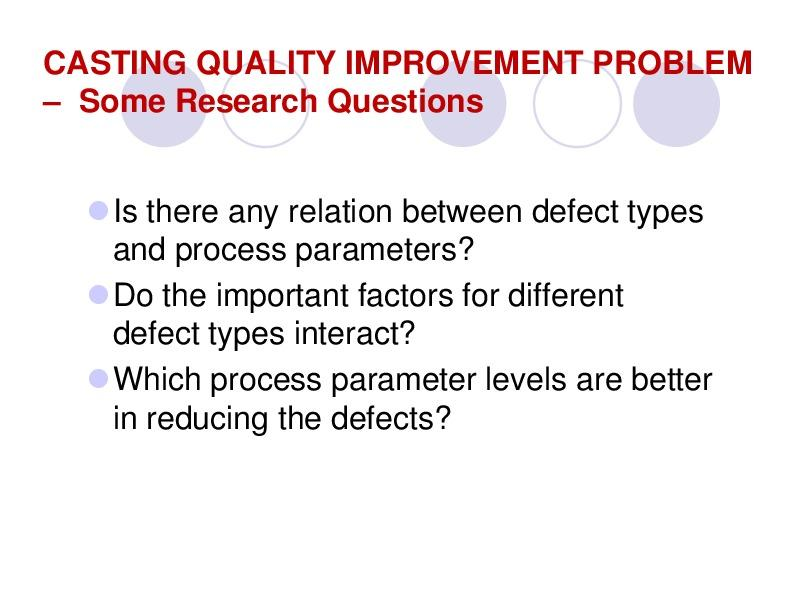paragraph: (77, 171, 741, 454)
title: (30, 34, 770, 128)
